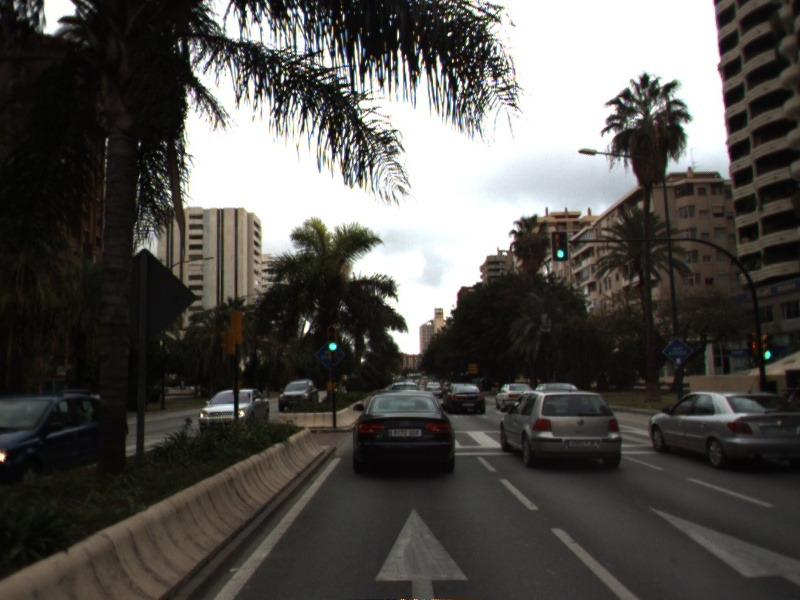STRAIGHT: (645, 502, 800, 588), (370, 504, 472, 600)
